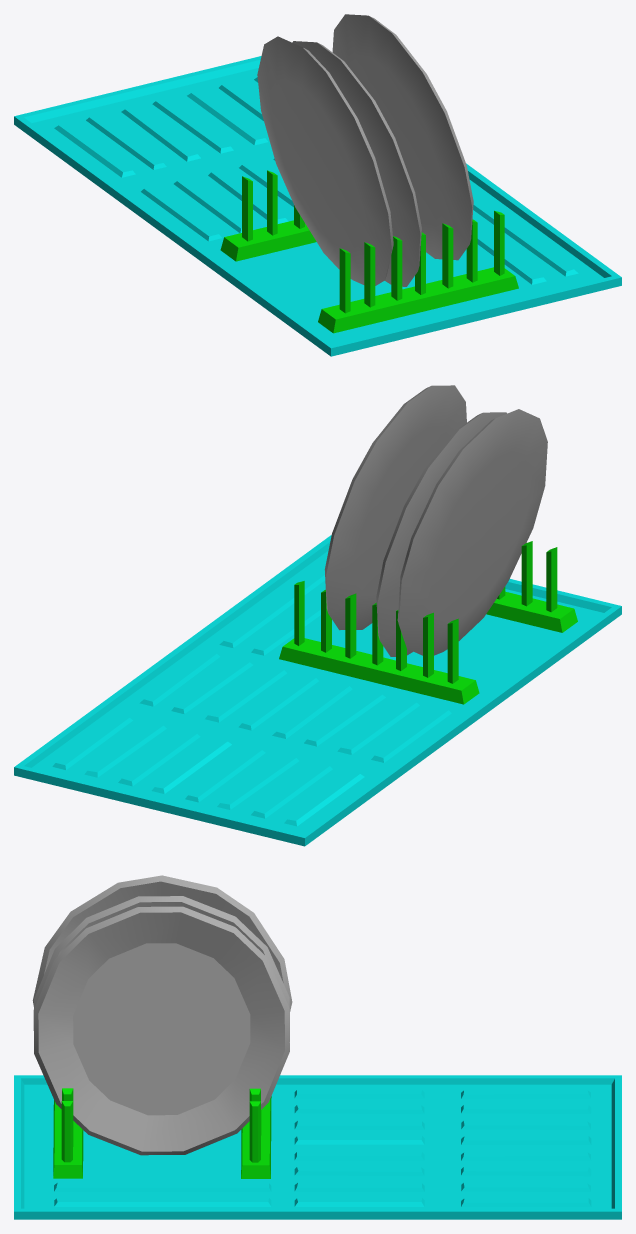
The model's file is Kitchen_Drainer.fbx.
3 renders of one model, top to bottom at view 1: azimuth 30°, elevation 25°; view 2: azimuth 150°, elevation 25°; view 3: azimuth 270°, elevation 25°, orthographic. The views are drawn at different scales.
Visible parts, largest first — view 1: Kitchen_Drainer; view 2: Kitchen_Drainer; view 3: Kitchen_Drainer.
Part boxes in pixels (x1,y1,x2,y2): Kitchen_Drainer: (14, 14, 621, 356); Kitchen_Drainer: (14, 385, 621, 846); Kitchen_Drainer: (14, 875, 621, 1219).
Size of the model in its own units: 54.98 by 45.52 by 104.
